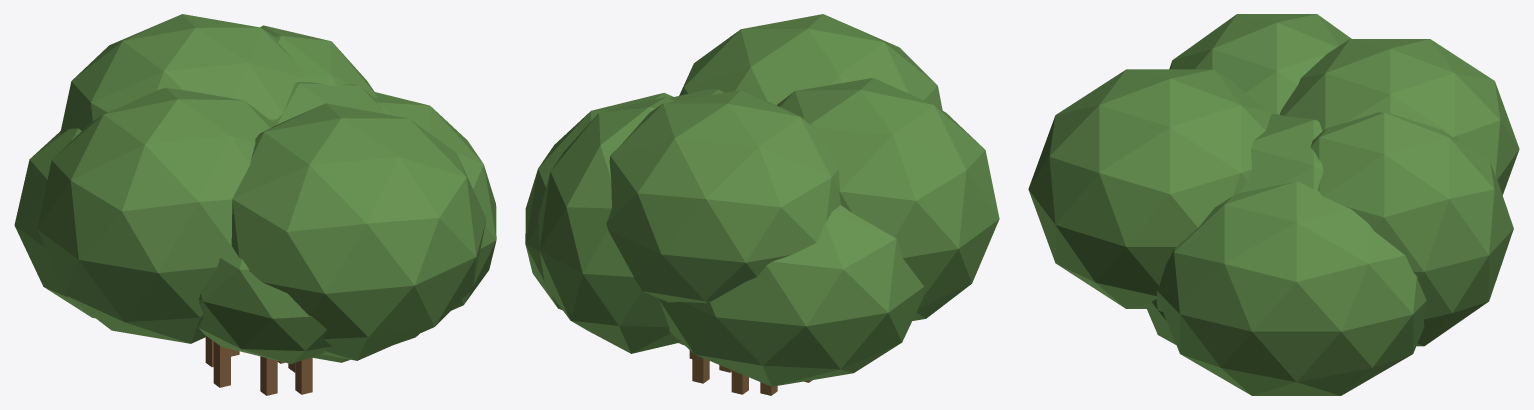
The model's file is shrub-2.glb.
3 views of the same model, side by side, from view 1: azimuth 30°, elevation 25°; view 2: azimuth 150°, elevation 25°; view 3: azimuth 270°, elevation 25° (orthographic). The views are drawn at different scales.
Parts seen in each view (by area): view 1: shrub-2; view 2: shrub-2; view 3: shrub-2.
Part boxes in pixels (x1,y1,x2,y2): shrub-2: (14, 14, 496, 395); shrub-2: (525, 14, 999, 395); shrub-2: (1028, 14, 1519, 395).
Bounding box in the file's own units: 2.7 × 1.89 × 2.79.
